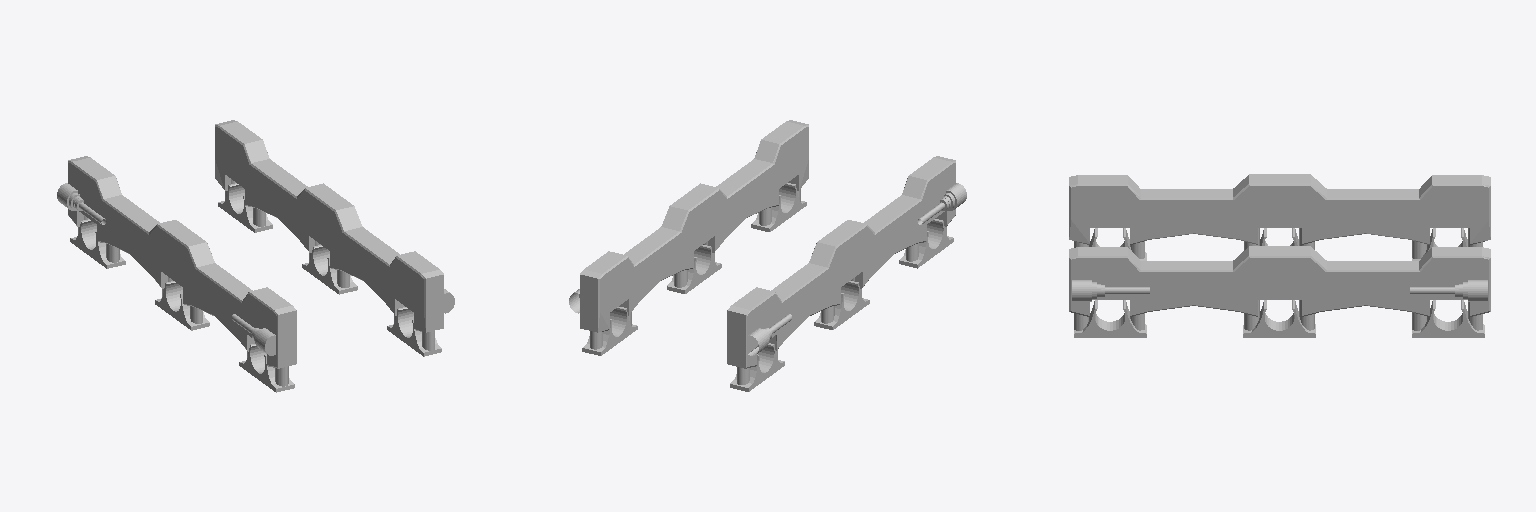
The model's file is truck.obj.
The picture shows the model from 3 angles: view 1: azimuth 30°, elevation 25°; view 2: azimuth 150°, elevation 25°; view 3: azimuth 270°, elevation 25°; orthographic projection.
Parts seen in each view (by area): view 1: Cube.001_Cube.001; view 2: Cube.001_Cube.001; view 3: Cube.001_Cube.001.
Part boxes in pixels (x1,y1,x2,y2): Cube.001_Cube.001: (57, 120, 454, 392); Cube.001_Cube.001: (569, 120, 966, 391); Cube.001_Cube.001: (1069, 174, 1490, 337).
Size of the model in its own units: 11.49 by 4.73 by 22.06.